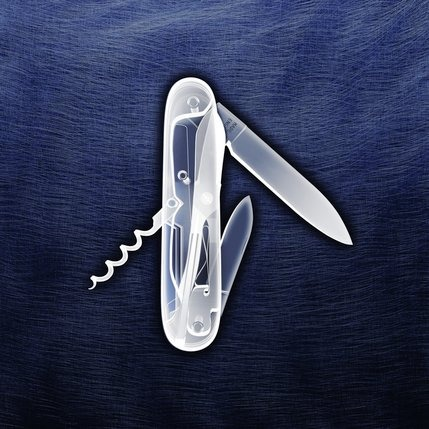knife: (86, 72, 358, 362)
